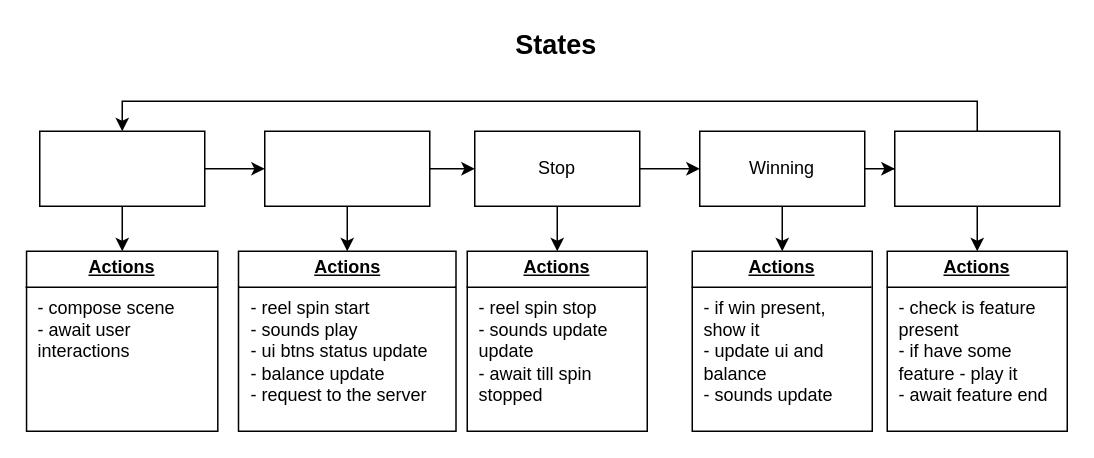
The diagram is 1094 pixels wide and 458 high, and some of its shapes have lost their labels. Each missing label, with the centre of its shape:
"Fetures" belongs at [976,168].
"Main Game state" belongs at [121,168].
"Spin" belongs at [346,168].
